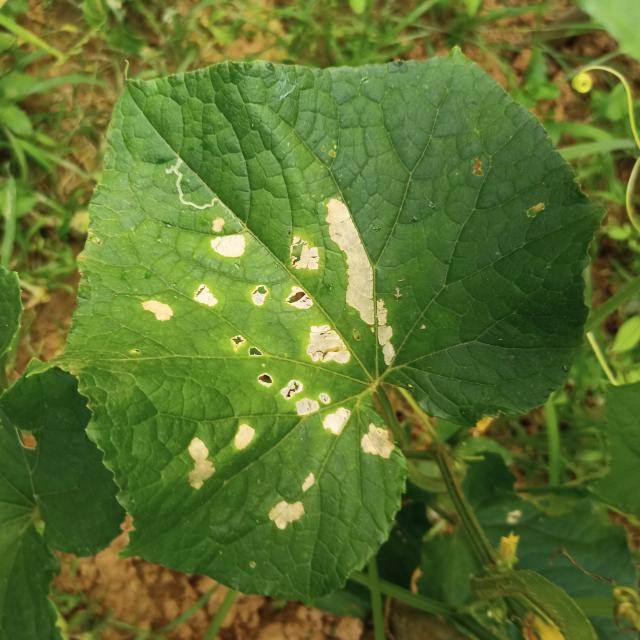disease_cucumber: (143, 198, 401, 486), (182, 416, 258, 490), (263, 468, 321, 536)
